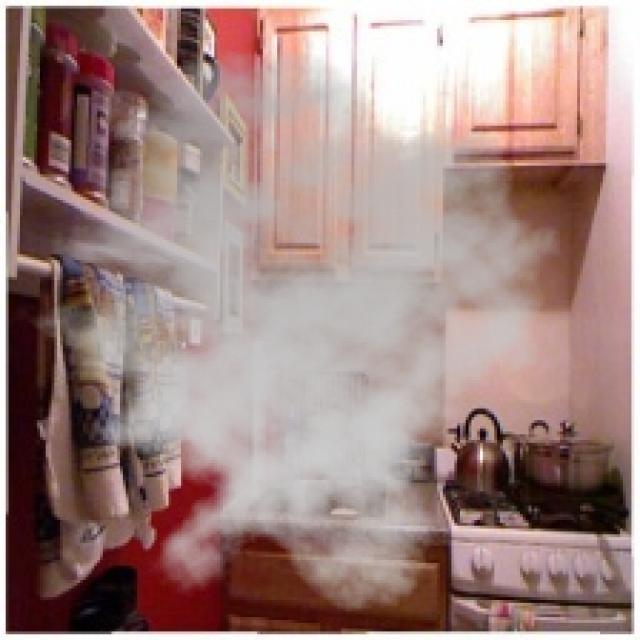Smoke: (6, 48, 574, 614)
